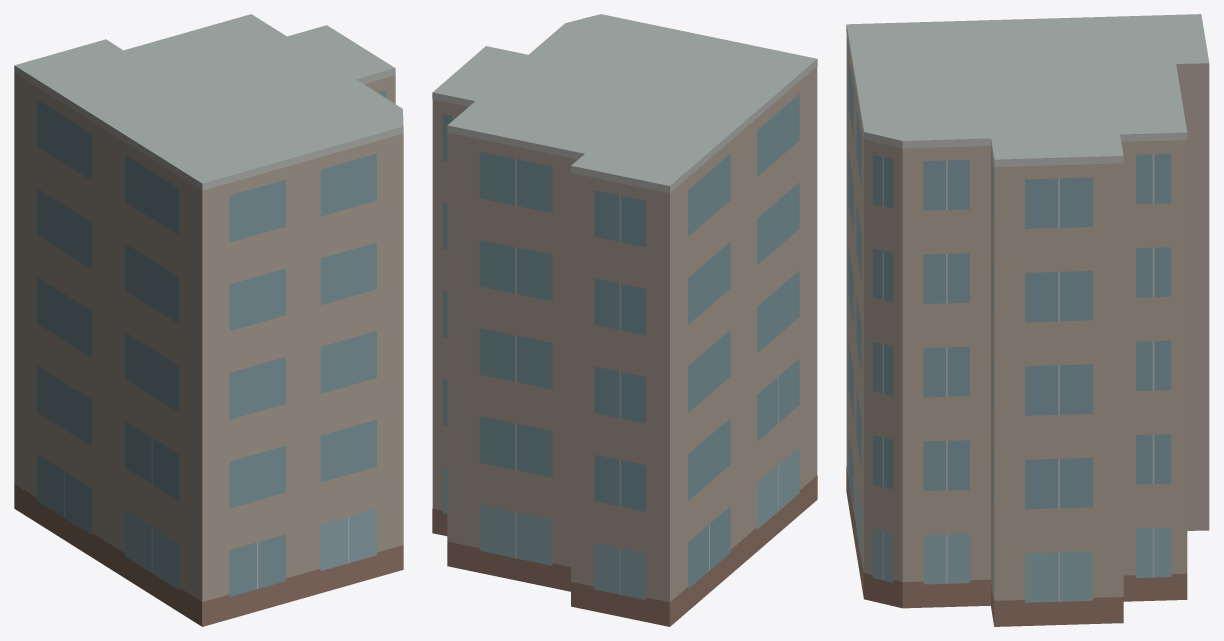
The model's file is survey-upis-32617514.glb.
The picture shows the model from 3 angles, left to right: view 1: azimuth 30°, elevation 25°; view 2: azimuth 150°, elevation 25°; view 3: azimuth 270°, elevation 25°; orthographic projection. The views are drawn at different scales.
Visible parts, largest first — view 1: survey-upis-32617514.tmp; view 2: survey-upis-32617514.tmp; view 3: survey-upis-32617514.tmp.
Boxes of the visible parts, box(x1,y1,x2,y2) form: survey-upis-32617514.tmp: box(14, 14, 403, 626); survey-upis-32617514.tmp: box(432, 14, 817, 626); survey-upis-32617514.tmp: box(846, 14, 1209, 626).
Bounding box in the file's own units: 10.2 × 15.25 × 10.75.
